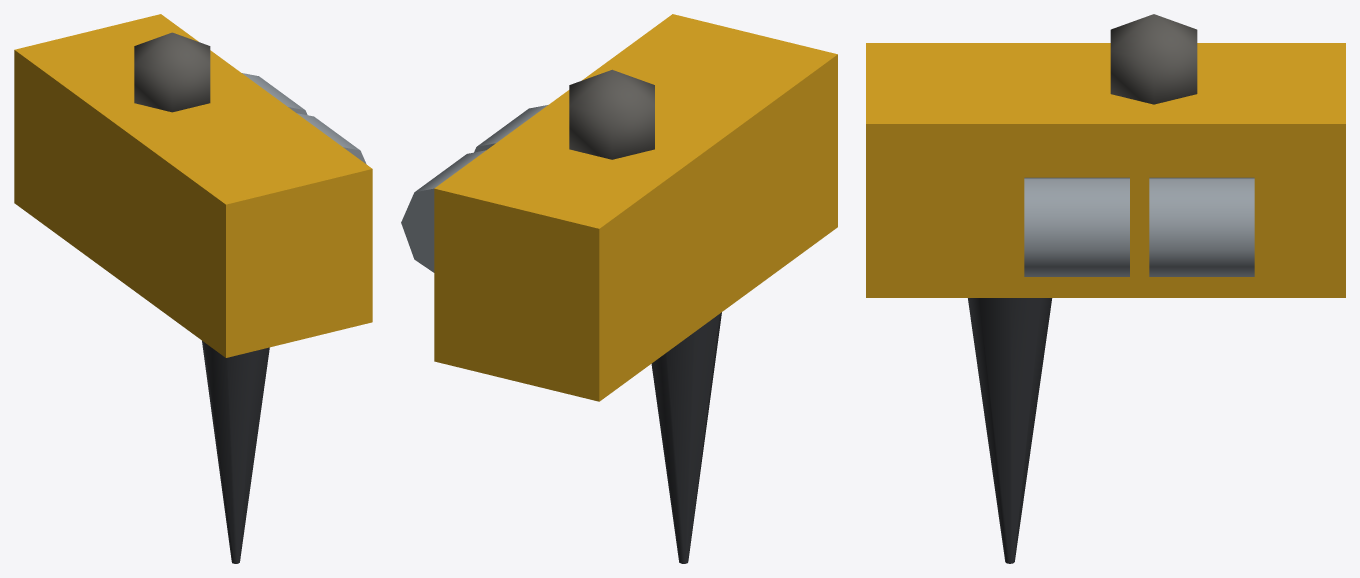
Rendered from space_orbital_extractor_t2.glb.
The picture shows the model from 3 angles, left to right: view 1: azimuth 30°, elevation 25°; view 2: azimuth 150°, elevation 25°; view 3: azimuth 270°, elevation 25°; orthographic projection. The views are drawn at different scales.
Parts seen in each view (by area): view 1: body, drill; view 2: body, drill; view 3: body, drill.
Part boxes in pixels (x1=…): body: x1=14, y1=14, x2=372, y2=357; drill: x1=202, y1=341, x2=269, y2=563; body: x1=401, y1=14, x2=837, y2=401; drill: x1=651, y1=312, x2=721, y2=563; body: x1=866, y1=14, x2=1345, y2=297; drill: x1=968, y1=298, x2=1052, y2=563.
Size of what is drawn, in the model's own units: 5.9 by 12.6 by 10.
